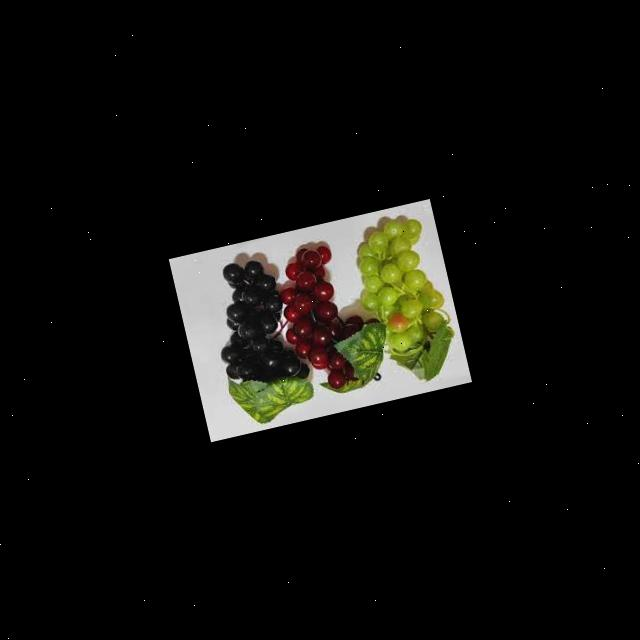grape: (262, 238, 376, 398), (343, 210, 453, 361), (200, 252, 308, 396)
